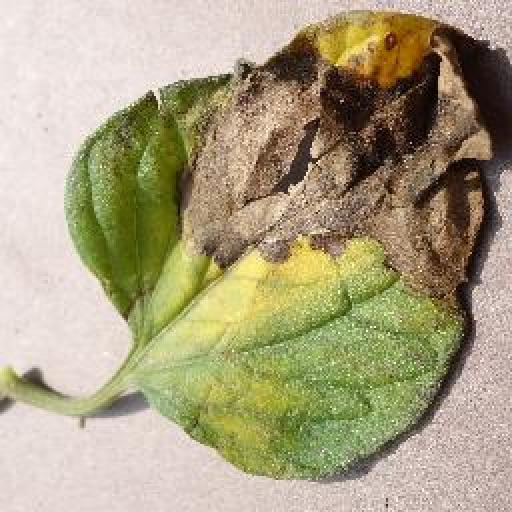Late Blight: (64, 6, 497, 478)
